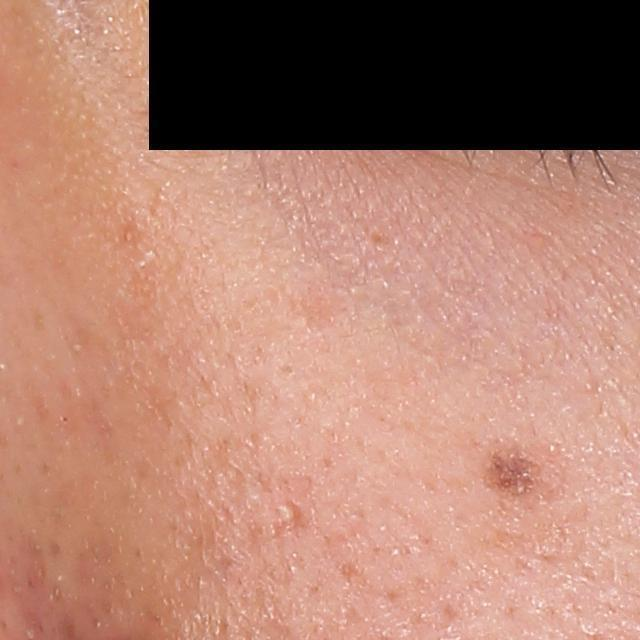nevus: (479, 450, 551, 500)
